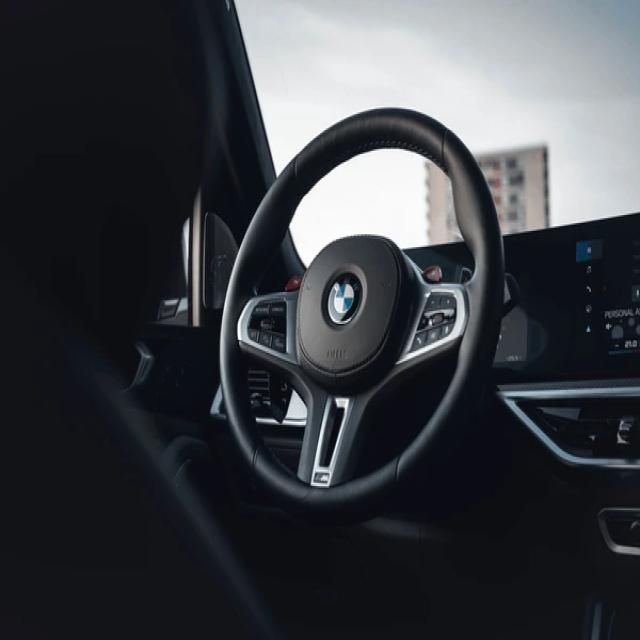bmw: (325, 271, 363, 323)
